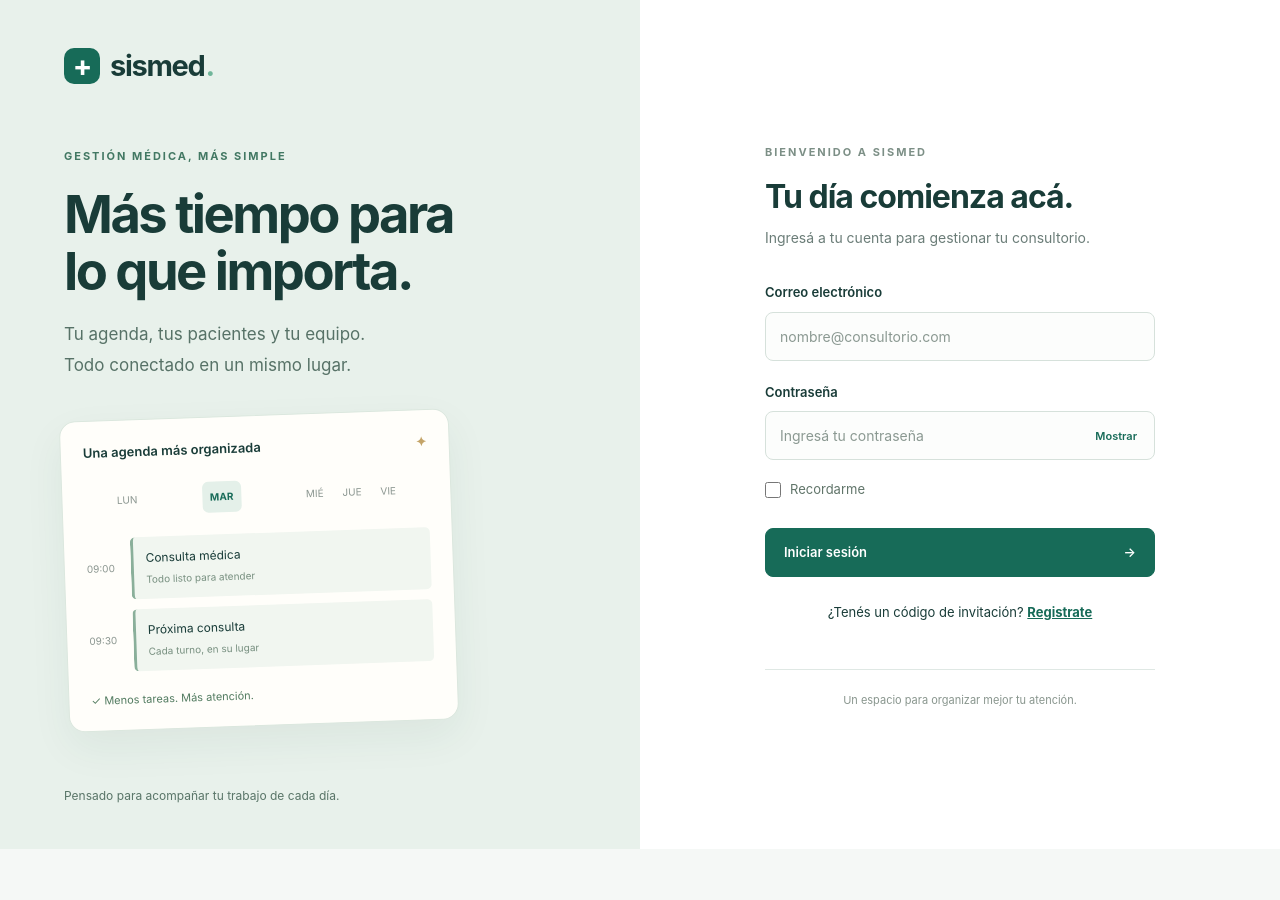
Test: empty login never sends credentials
Click the button "Iniciar sesión →" at (826, 552), box [765, 528, 1155, 577]
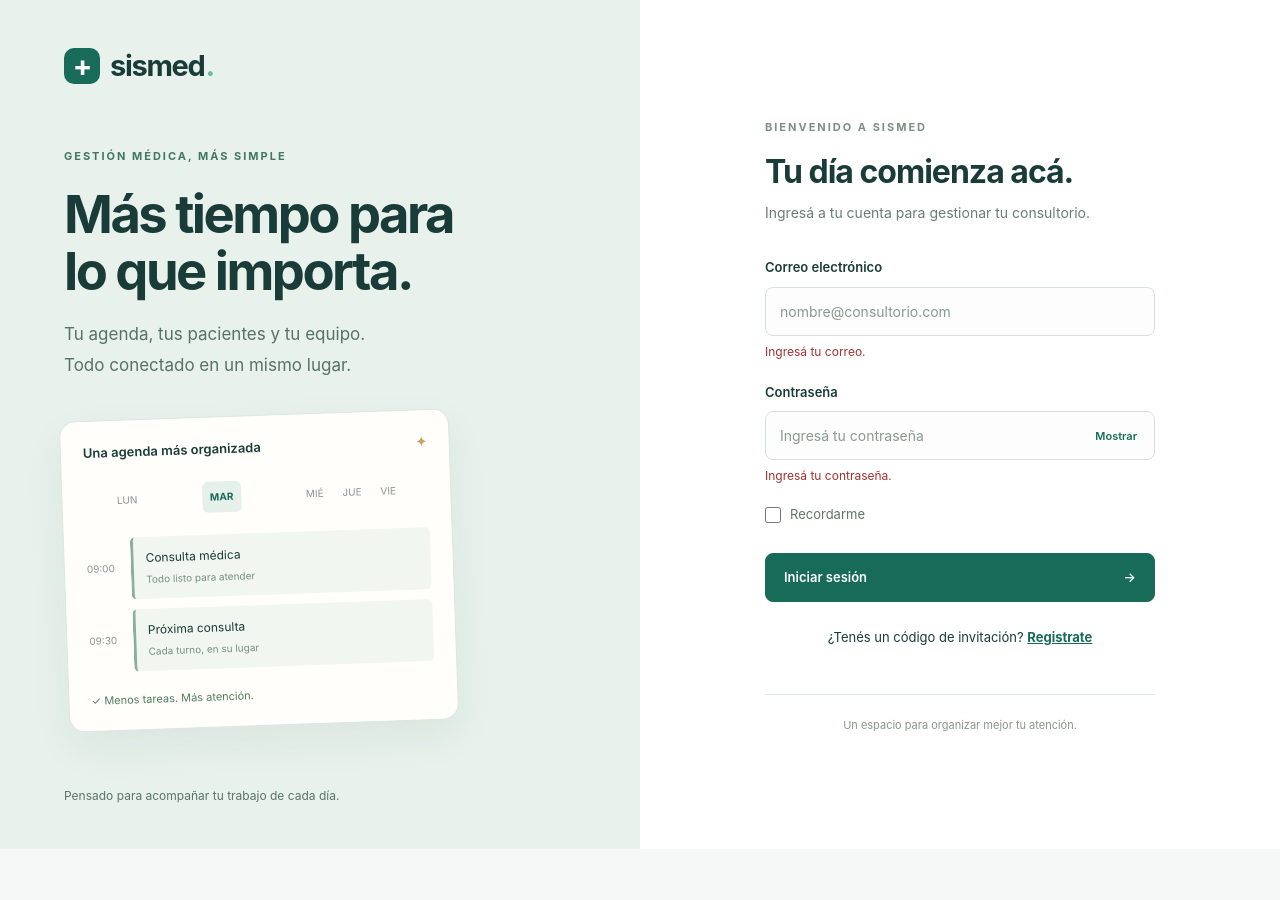
Now the text "Ingresá tu correo." is shown, box [765, 344, 866, 359]
